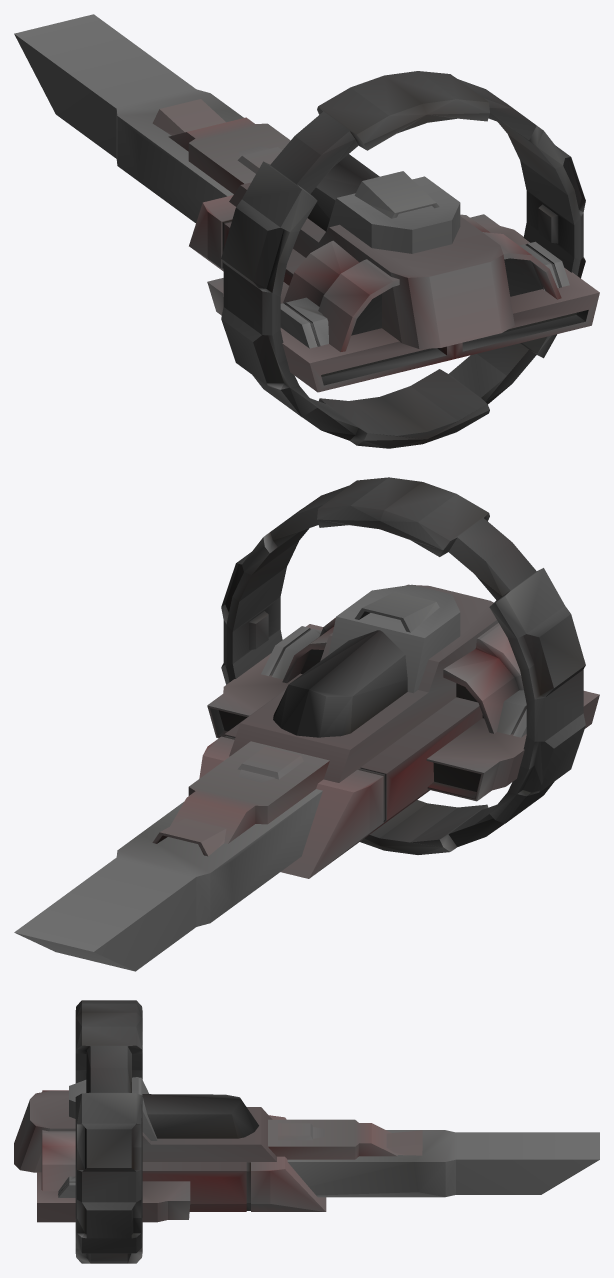
The model's file is zenith.glb.
3 renders of one model, top to bottom at view 1: azimuth 30°, elevation 25°; view 2: azimuth 150°, elevation 25°; view 3: azimuth 270°, elevation 25°, orthographic. The views are drawn at different scales.
Visible parts, largest first — view 1: Zenith; view 2: Zenith; view 3: Zenith.
Boxes of the visible parts, x1,y1,x2,y2 form: Zenith: [14, 14, 599, 448]; Zenith: [14, 477, 599, 971]; Zenith: [14, 1000, 599, 1263].
Size of the model in its own units: 0.4604 by 0.4499 by 1.
